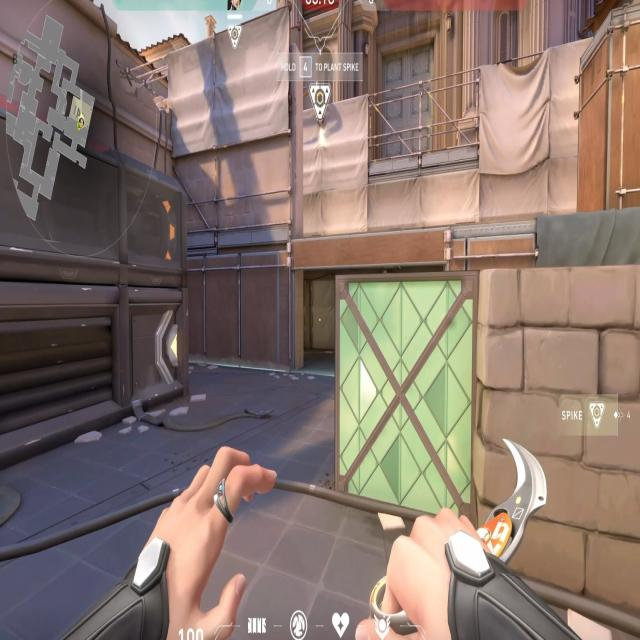A_Heaven_Box: (575, 0, 640, 212)
A_Heaven_Wall: (166, 3, 303, 262)
A_Site_Box: (333, 268, 640, 631)
